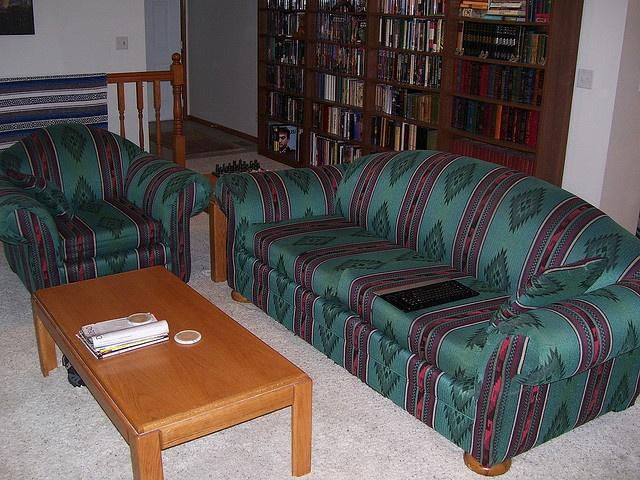Meja: (30, 262, 313, 479)
Rak: (253, 0, 584, 189)
